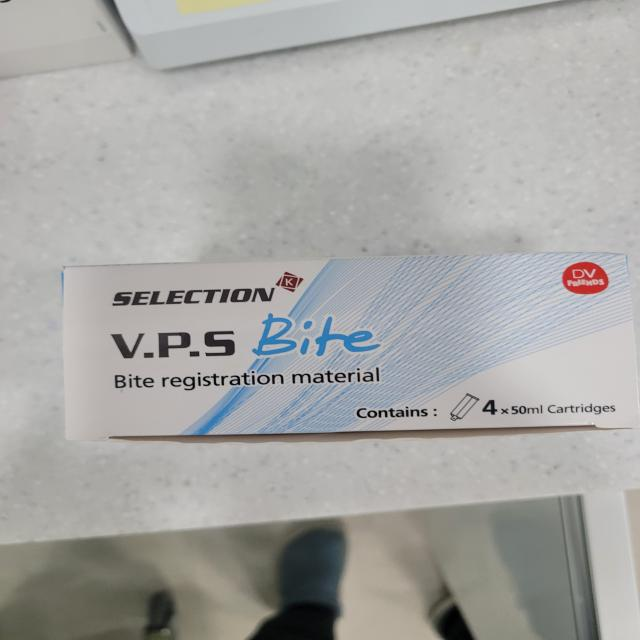impression: (41, 232, 640, 474)
